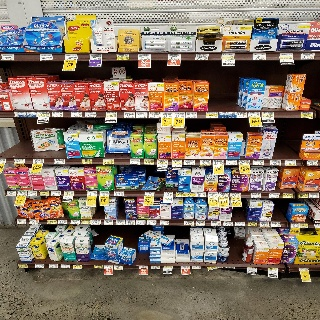All PRICE TAGS: (221, 53, 235, 59), (252, 53, 266, 59), (301, 53, 315, 59), (40, 54, 53, 60), (2, 54, 14, 60), (262, 111, 274, 117), (116, 54, 130, 59), (195, 54, 209, 59), (279, 53, 293, 58), (307, 160, 318, 166), (65, 54, 78, 59), (89, 54, 102, 59), (167, 54, 180, 59), (149, 249, 161, 254), (252, 160, 264, 165), (301, 112, 313, 117), (162, 112, 172, 118), (138, 54, 150, 59), (71, 112, 83, 117), (206, 112, 218, 117), (221, 112, 233, 117), (248, 112, 260, 117), (282, 193, 293, 198), (285, 160, 296, 165), (270, 160, 281, 165), (226, 160, 237, 165), (200, 160, 211, 165), (130, 159, 141, 164), (103, 159, 114, 164), (81, 159, 92, 164), (54, 159, 65, 164), (33, 158, 44, 163), (14, 158, 25, 163), (26, 111, 37, 116), (38, 111, 49, 116), (52, 112, 63, 117), (85, 112, 96, 117), (136, 112, 147, 117), (174, 112, 185, 117), (186, 112, 197, 117), (235, 112, 246, 117), (72, 264, 82, 269), (235, 221, 245, 226), (223, 221, 233, 226), (114, 191, 124, 196), (99, 191, 109, 196), (239, 160, 249, 165), (213, 160, 223, 165), (176, 192, 186, 197), (309, 193, 319, 198), (299, 267, 309, 272), (124, 112, 134, 117), (150, 112, 160, 117), (248, 267, 257, 272), (211, 221, 220, 226), (196, 221, 205, 226), (184, 220, 193, 225), (160, 220, 169, 225), (136, 220, 145, 225), (58, 219, 67, 224), (88, 191, 97, 196), (51, 191, 60, 196), (40, 191, 49, 196), (7, 190, 16, 195), (186, 192, 195, 197), (299, 193, 308, 198), (16, 111, 25, 116), (250, 193, 261, 197), (184, 160, 195, 164), (157, 160, 168, 164), (106, 112, 117, 116), (60, 264, 70, 268), (48, 264, 58, 268), (34, 264, 44, 268), (148, 220, 156, 225), (269, 193, 279, 197), (230, 193, 240, 197), (208, 193, 218, 197), (196, 193, 206, 197), (64, 191, 74, 195), (172, 160, 182, 164), (144, 160, 154, 164), (47, 220, 57, 224), (268, 268, 277, 272), (163, 266, 172, 270), (139, 265, 148, 269), (114, 265, 123, 269), (271, 222, 280, 226), (260, 222, 269, 226), (248, 222, 257, 226), (116, 220, 125, 224), (104, 220, 113, 224), (81, 220, 90, 224), (71, 220, 80, 224), (17, 219, 26, 223), (219, 193, 228, 197), (164, 192, 173, 196), (145, 191, 154, 195), (28, 191, 37, 195), (17, 191, 26, 195), (127, 220, 134, 225), (104, 265, 112, 269), (18, 264, 26, 268), (92, 220, 100, 224), (30, 220, 38, 224), (291, 223, 299, 227), (300, 223, 308, 227), (0, 159, 6, 164), (192, 266, 201, 269), (181, 266, 190, 269), (207, 266, 216, 269), (93, 265, 102, 268), (151, 266, 159, 269), (315, 224, 320, 227)
